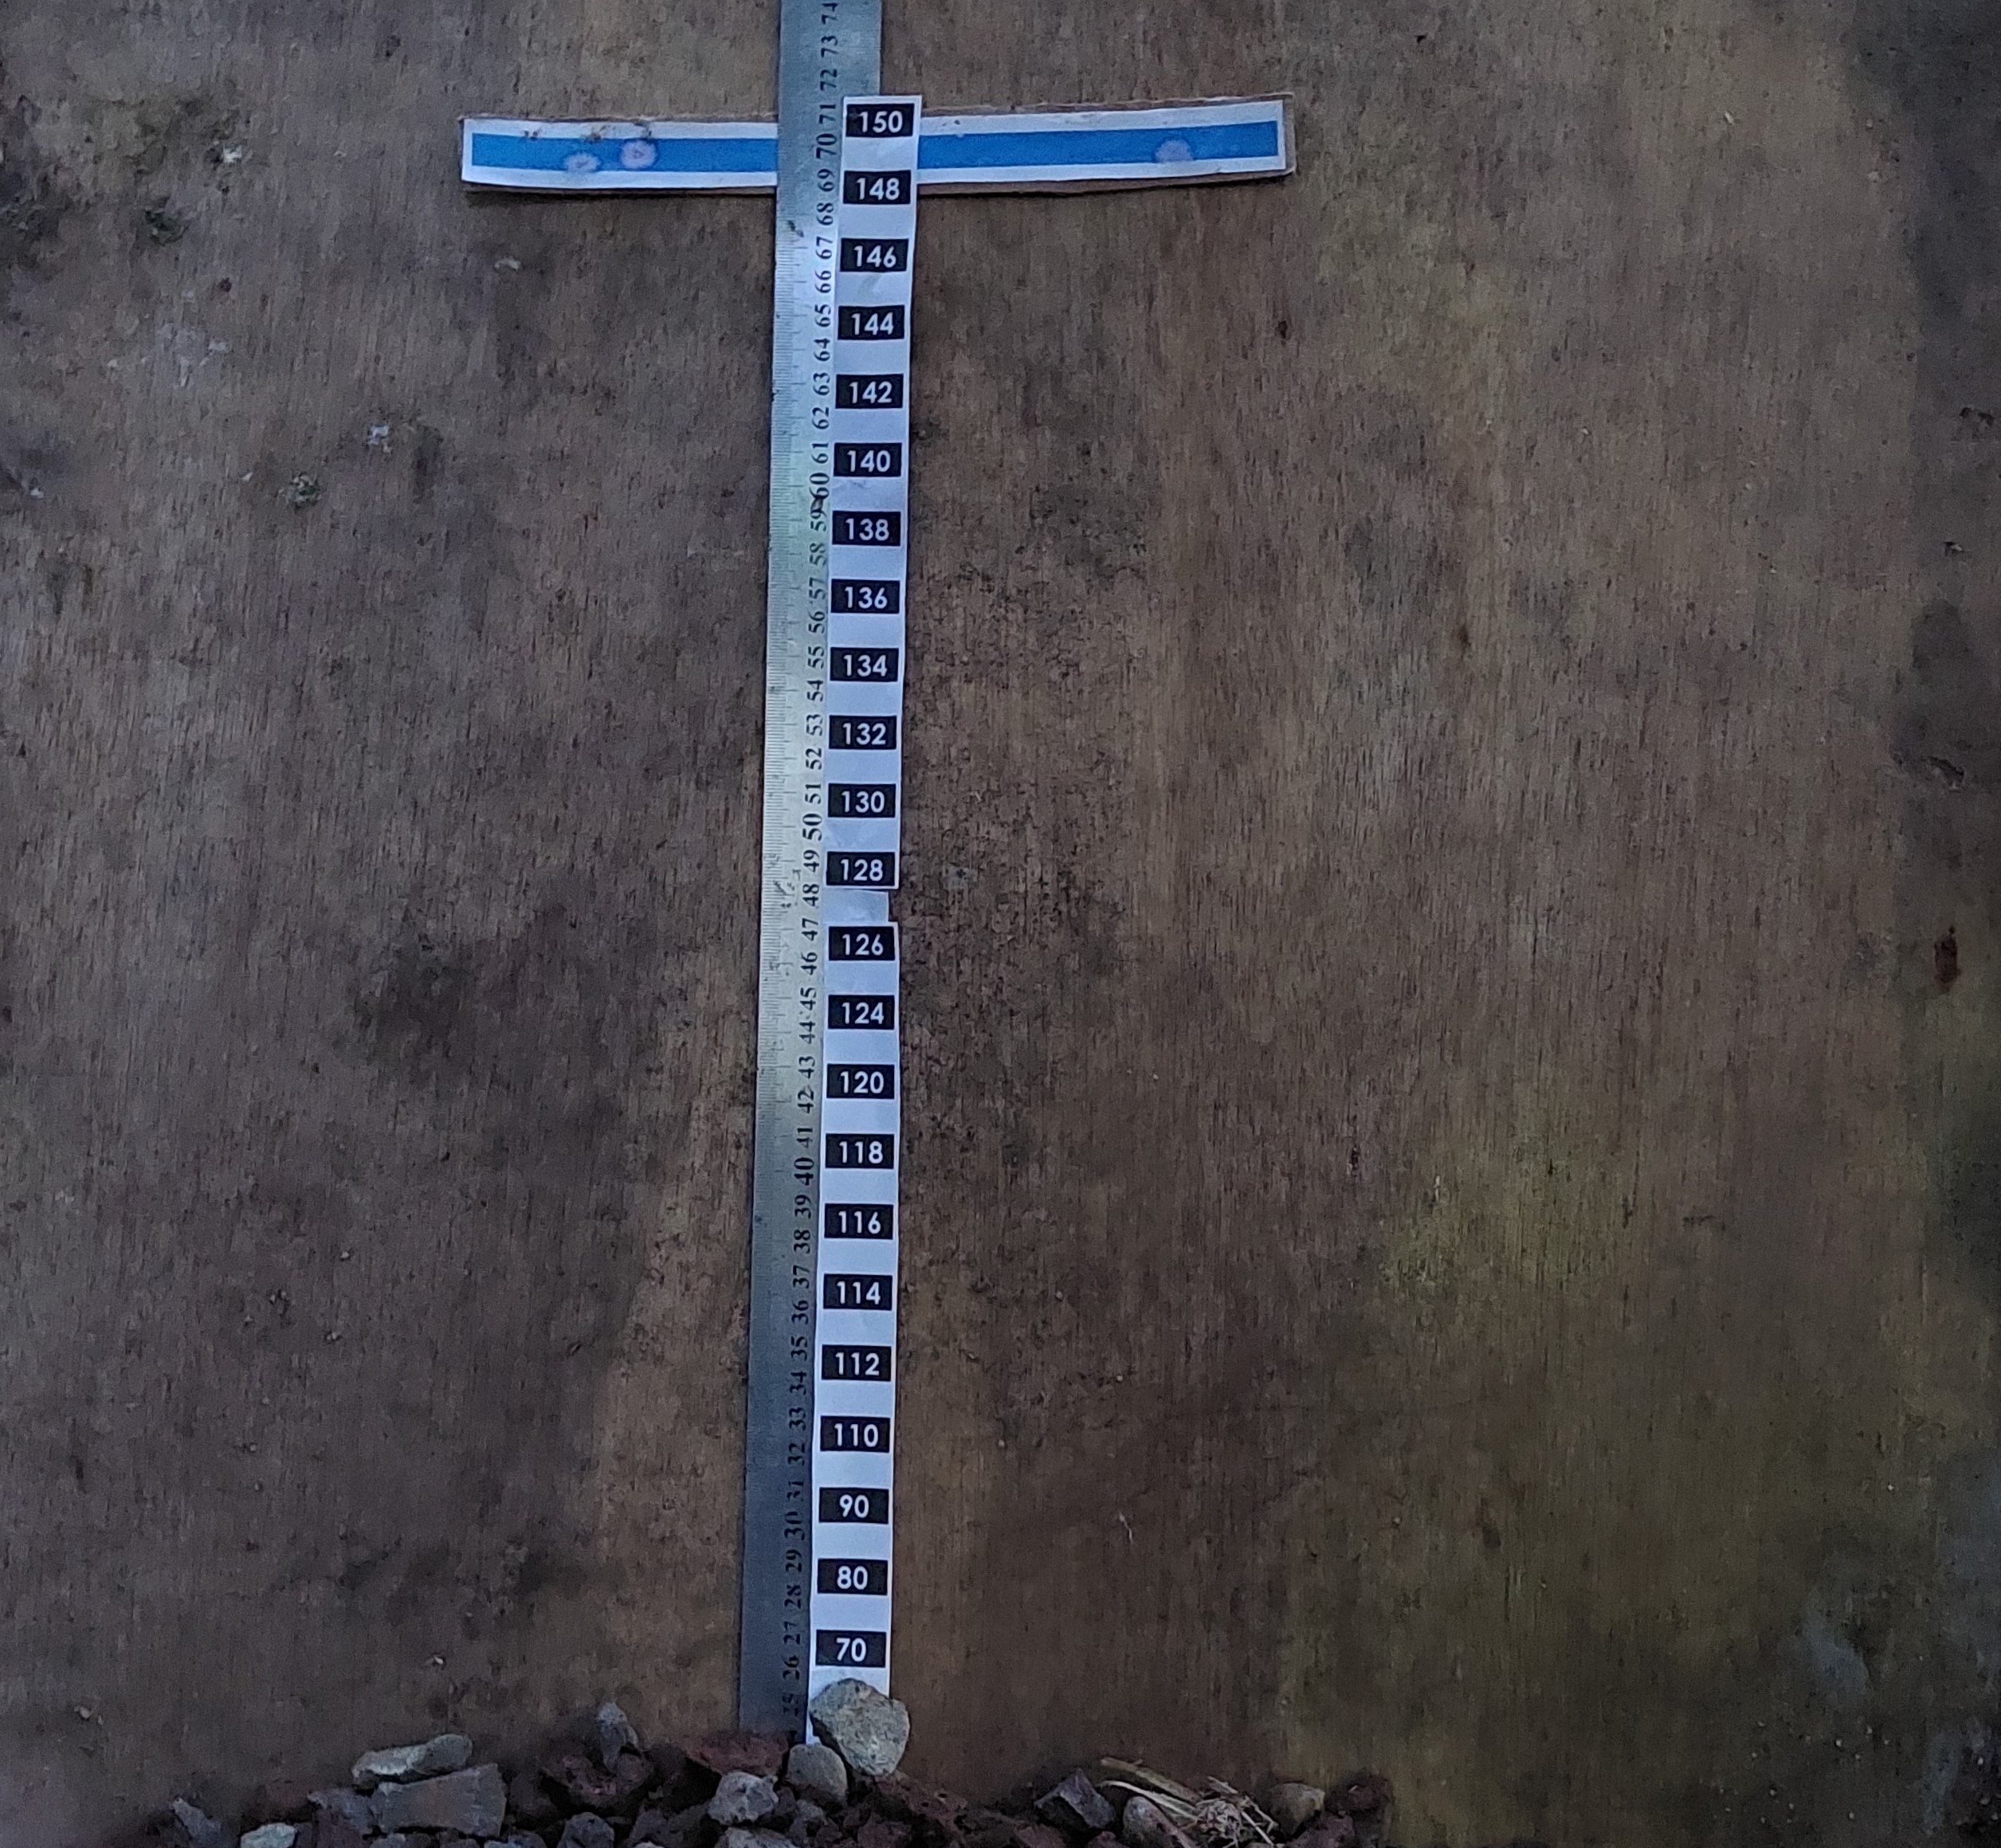kotak_2x1: (812, 1552, 892, 1600), (817, 1409, 894, 1457), (812, 1625, 891, 1672), (819, 1130, 898, 1175), (819, 1269, 896, 1315), (817, 1341, 894, 1386), (816, 1484, 892, 1529), (821, 1060, 899, 1104), (824, 846, 899, 891), (824, 921, 899, 966), (824, 989, 899, 1034), (831, 370, 908, 413), (821, 1199, 898, 1243), (831, 438, 905, 483), (828, 574, 903, 617), (824, 778, 899, 821), (842, 99, 919, 141), (828, 507, 905, 549), (824, 711, 901, 753), (835, 302, 908, 345), (837, 234, 912, 275), (842, 166, 913, 209), (828, 643, 901, 685)
mal_biru_150: (462, 98, 1283, 181)
